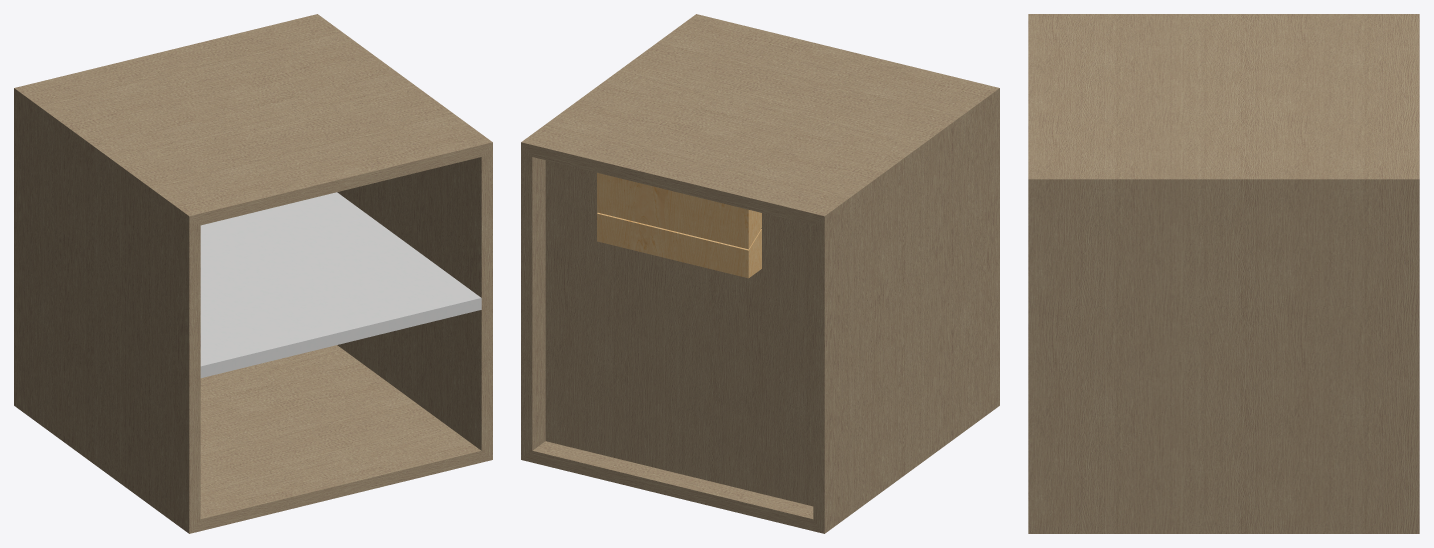
The model's file is 003_Mesa-de-Noche-B-Ibiza.glb.
3 views of the same model, side by side, from view 1: azimuth 30°, elevation 25°; view 2: azimuth 150°, elevation 25°; view 3: azimuth 270°, elevation 25° (orthographic). The views are drawn at different scales.
Parts seen in each view (by area): view 1: root; view 2: root; view 3: root.
Boxes of the visible parts, box(x1,y1,x2,y2) form: root: box(14, 14, 492, 533); root: box(521, 14, 999, 533); root: box(1028, 14, 1419, 533).
Size of the model in its own units: 0.4 by 0.4 by 0.4.
4 materials, 4 textured.
